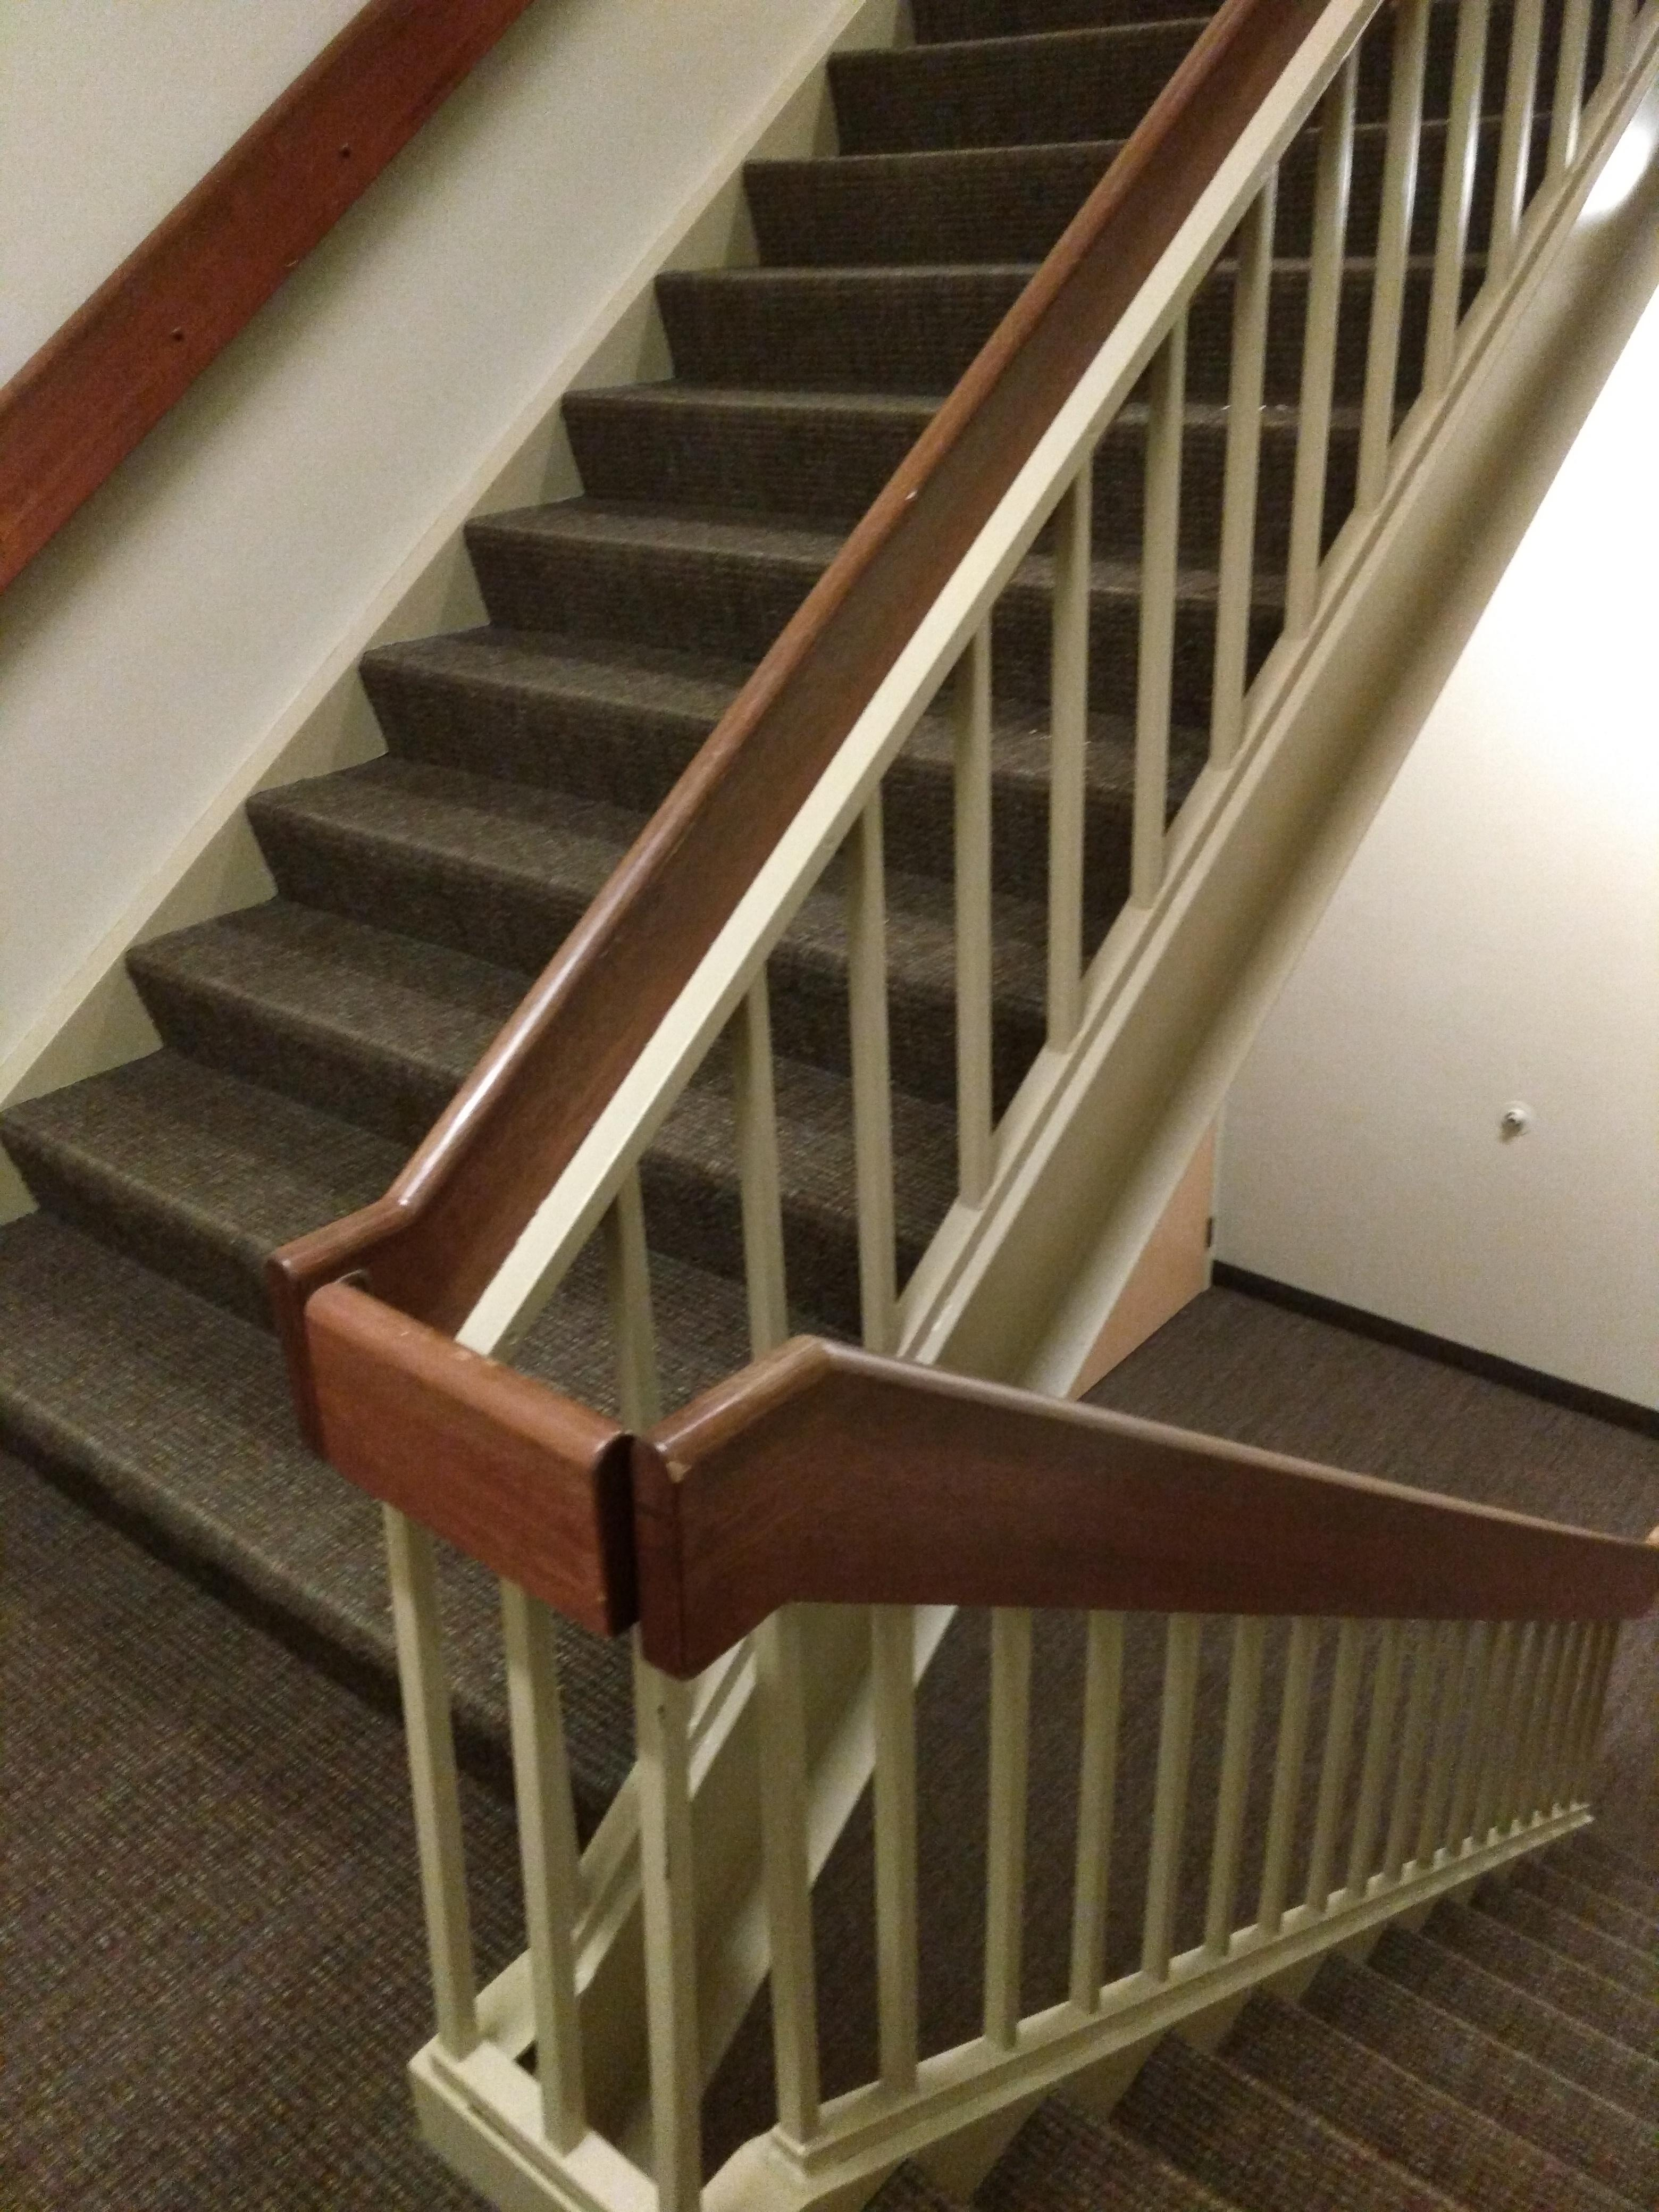stairs_up: (12, 7, 1617, 1778)
